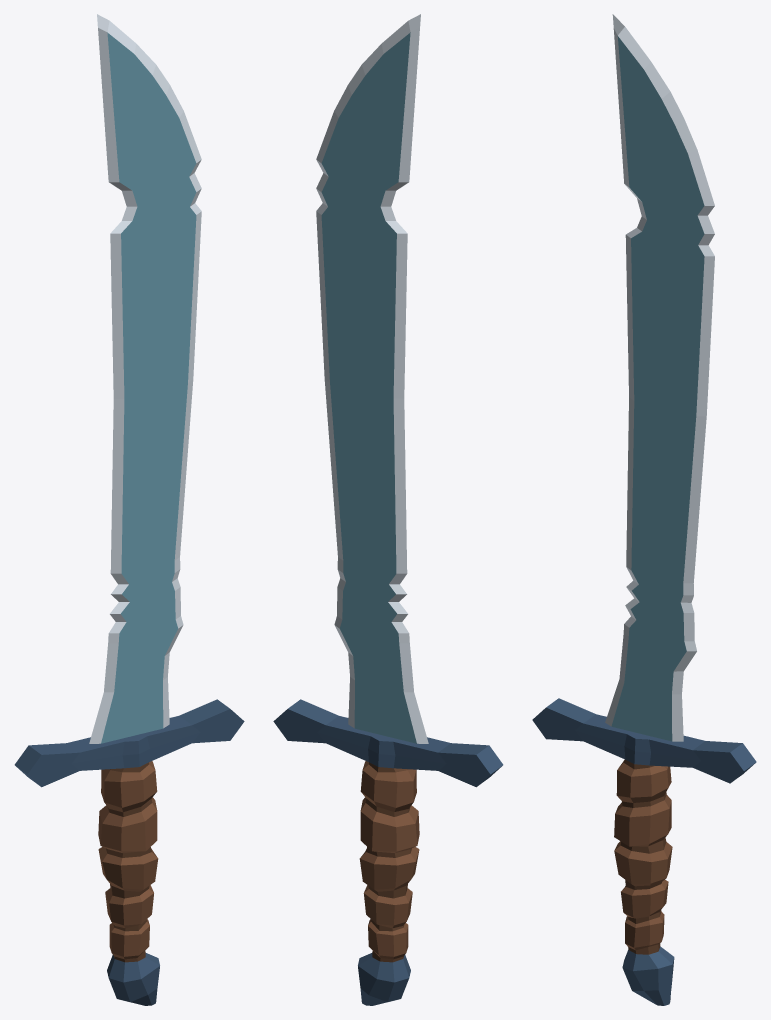
Rendered from damascus_short_sword.glb.
3 renders of one model, left to right at view 1: azimuth 30°, elevation 25°; view 2: azimuth 150°, elevation 25°; view 3: azimuth 330°, elevation 25°, orthographic. The views are drawn at different scales.
Parts seen in each view (by area): view 1: Sword_2_Cylinder.001; view 2: Sword_2_Cylinder.001; view 3: Sword_2_Cylinder.001.
Part boxes in pixels (x1=…): Sword_2_Cylinder.001: x1=14, y1=14, x2=244, y2=1005; Sword_2_Cylinder.001: x1=273, y1=14, x2=503, y2=1005; Sword_2_Cylinder.001: x1=532, y1=14, x2=756, y2=1005.
Bounding box in the file's own units: 1.22 × 5.36 × 0.3102.
Materials: 1 (1 with a texture image).
